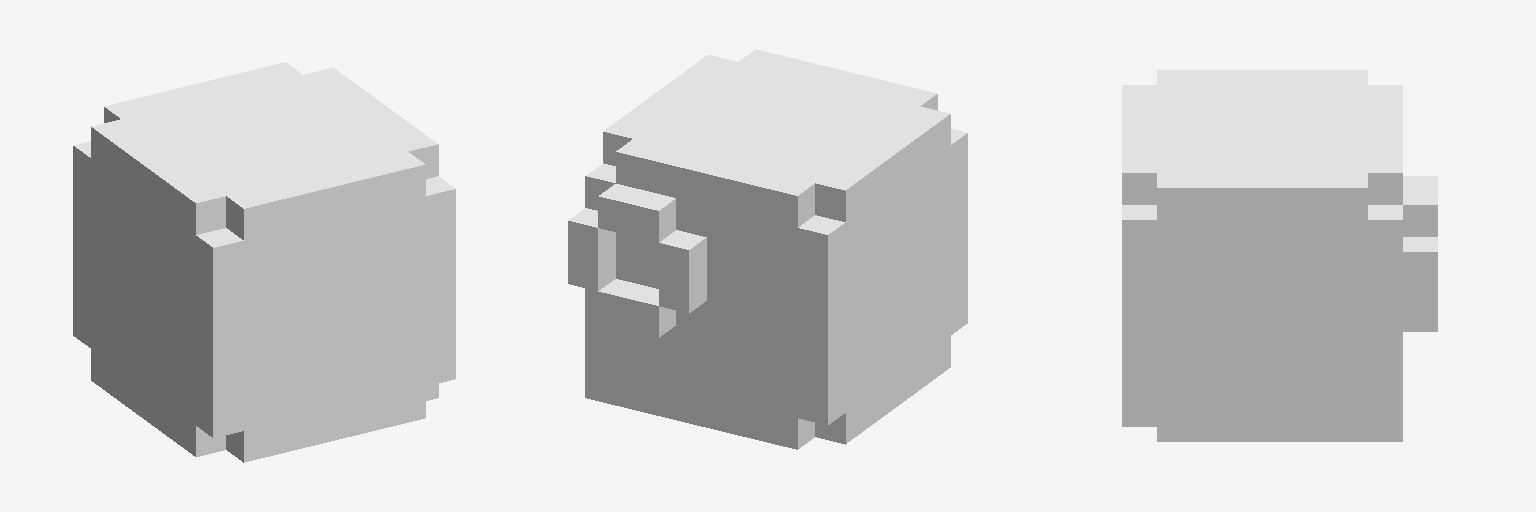
Rendered from SirHiggins_Head.obj.
3 renders of one model, left to right at view 1: azimuth 30°, elevation 25°; view 2: azimuth 150°, elevation 25°; view 3: azimuth 270°, elevation 25°, orthographic.
Parts seen in each view (by area): view 1: object 1; view 2: object 1; view 3: object 1.
Boxes of the visible parts, x1,y1,x2,y2 form: object 1: [73, 62, 455, 462]; object 1: [568, 49, 967, 449]; object 1: [1122, 70, 1437, 441].
Bounding box in the file's own units: 0.8 × 0.8 × 0.9.